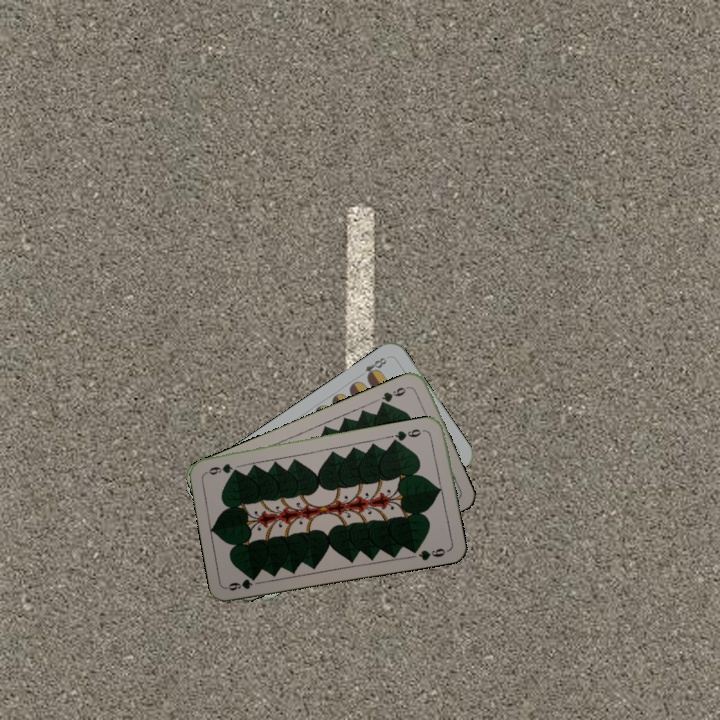E8: (361, 353, 389, 382)
G9: (376, 382, 412, 409), (389, 425, 429, 445), (224, 573, 259, 593)
